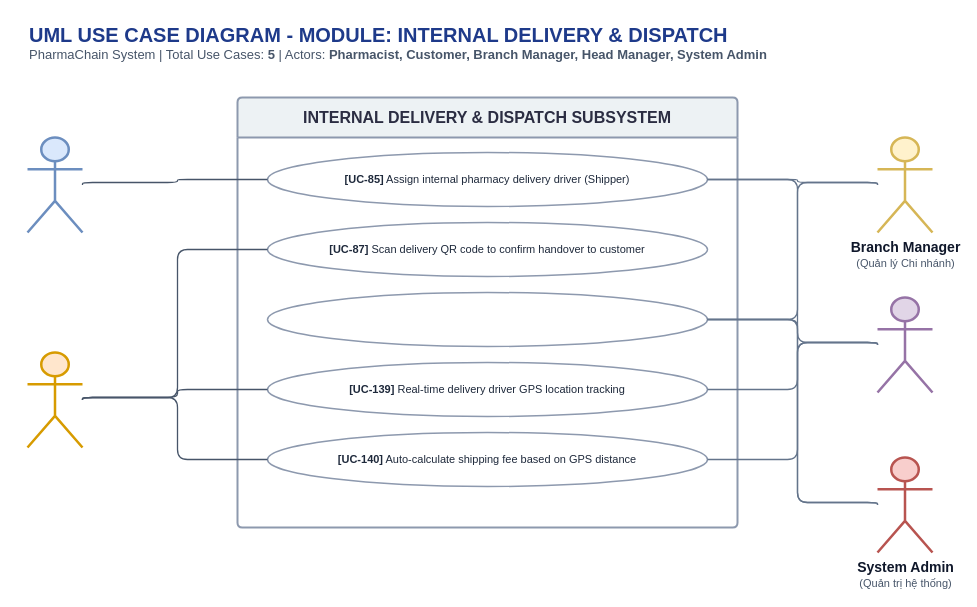
This 977x607 diagram has some shape labels left out. The shapes that lost their labels are listed below. From the top down, each one's centre as x and y in pixels, then its label:
At point (54, 184): "Pharmacist (Dược sĩ)".
At point (487, 319): "[UC-88] On-time delivery performance & customer feedback report".
At point (904, 344): "Head Manager (Quản lý Chuỗi/Tổng)".
At point (54, 399): "Customer (Khách hàng)".
